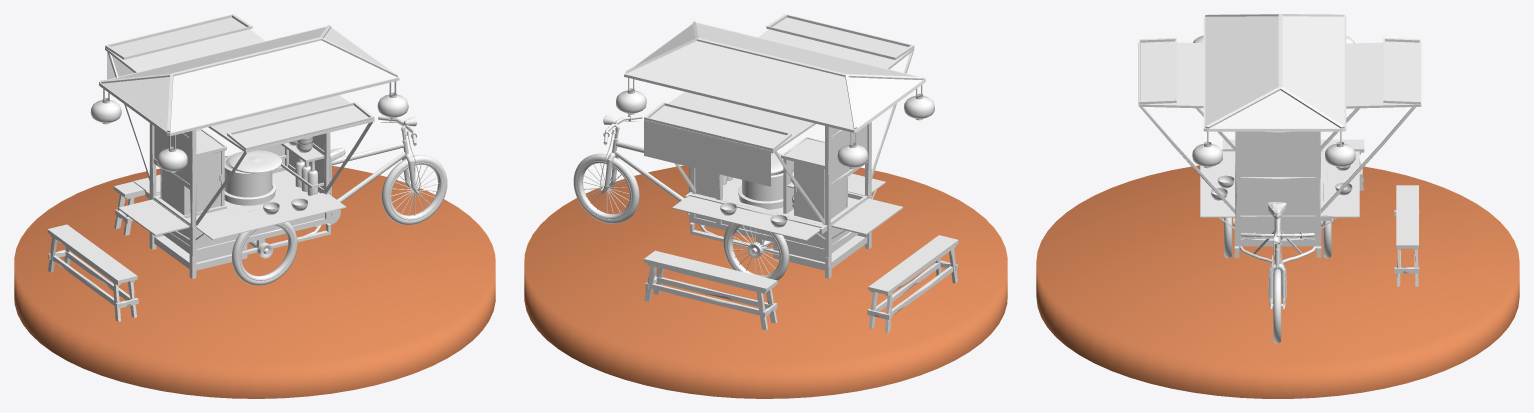
Rendered from JAPAN_asset_001_-_kaharu.glb.
The picture shows the model from 3 angles, left to right: view 1: azimuth 30°, elevation 25°; view 2: azimuth 150°, elevation 25°; view 3: azimuth 270°, elevation 25°; orthographic projection.
Parts seen in each view (by area): view 1: floor, Plane.015, Plane.031, Plane.011, Plane, Plane.012, Plane.027, framework, Plane.026, Plane.016, Plane.017, Plane.021 (+19 smaller); view 2: floor, Plane.015, Plane.031, BANNER, Plane.011, Plane, Plane.029, Plane.012, Plane.027, Plane.014, Plane.026, framework (+21 smaller); view 3: floor, Plane.015, Plane, Plane.031, Plane.011, Plane.012, Plane.014, Plane.013, framework, Plane.002, Circle.023, Circle.016 (+6 smaller).
Part boxes in pixels (bbox=[...]): floor: bbox=[14, 166, 495, 398]; Plane.015: bbox=[99, 25, 399, 136]; Plane.031: bbox=[105, 14, 374, 150]; Plane.011: bbox=[105, 29, 374, 152]; Plane: bbox=[154, 126, 324, 270]; Plane.012: bbox=[133, 174, 346, 239]; Plane.027: bbox=[48, 235, 138, 321]; framework: bbox=[149, 193, 331, 267]; Plane.026: bbox=[47, 224, 137, 283]; Plane.016: bbox=[149, 123, 196, 278]; Plane.017: bbox=[118, 199, 189, 235]; Plane.021: bbox=[186, 170, 319, 222]; floor: bbox=[524, 165, 1007, 398]; Plane.015: bbox=[624, 21, 925, 132]; Plane.031: bbox=[644, 14, 914, 150]; BANNER: bbox=[644, 122, 770, 186]; Plane.011: bbox=[644, 29, 914, 153]; Plane: bbox=[695, 125, 867, 270]; Plane.029: bbox=[644, 263, 777, 330]; Plane.012: bbox=[672, 173, 885, 240]; Plane.027: bbox=[867, 245, 957, 332]; Plane.014: bbox=[644, 250, 777, 292]; Plane.026: bbox=[868, 235, 958, 294]; framework: bbox=[689, 195, 871, 267]; floor: bbox=[1036, 165, 1519, 398]; Plane.015: bbox=[1203, 14, 1346, 131]; Plane: bbox=[1240, 135, 1315, 238]; Plane.031: bbox=[1139, 37, 1420, 104]; Plane.011: bbox=[1138, 42, 1421, 108]; Plane.012: bbox=[1200, 151, 1359, 217]; Plane.014: bbox=[1396, 185, 1418, 248]; Plane.013: bbox=[1139, 106, 1415, 213]; framework: bbox=[1234, 155, 1321, 257]; Plane.002: bbox=[1235, 131, 1320, 241]; Circle.023: bbox=[1224, 217, 1331, 258]; Circle.016: bbox=[1273, 269, 1281, 343].
Size of the model in its own units: 5.07 by 2.81 by 5.08.
